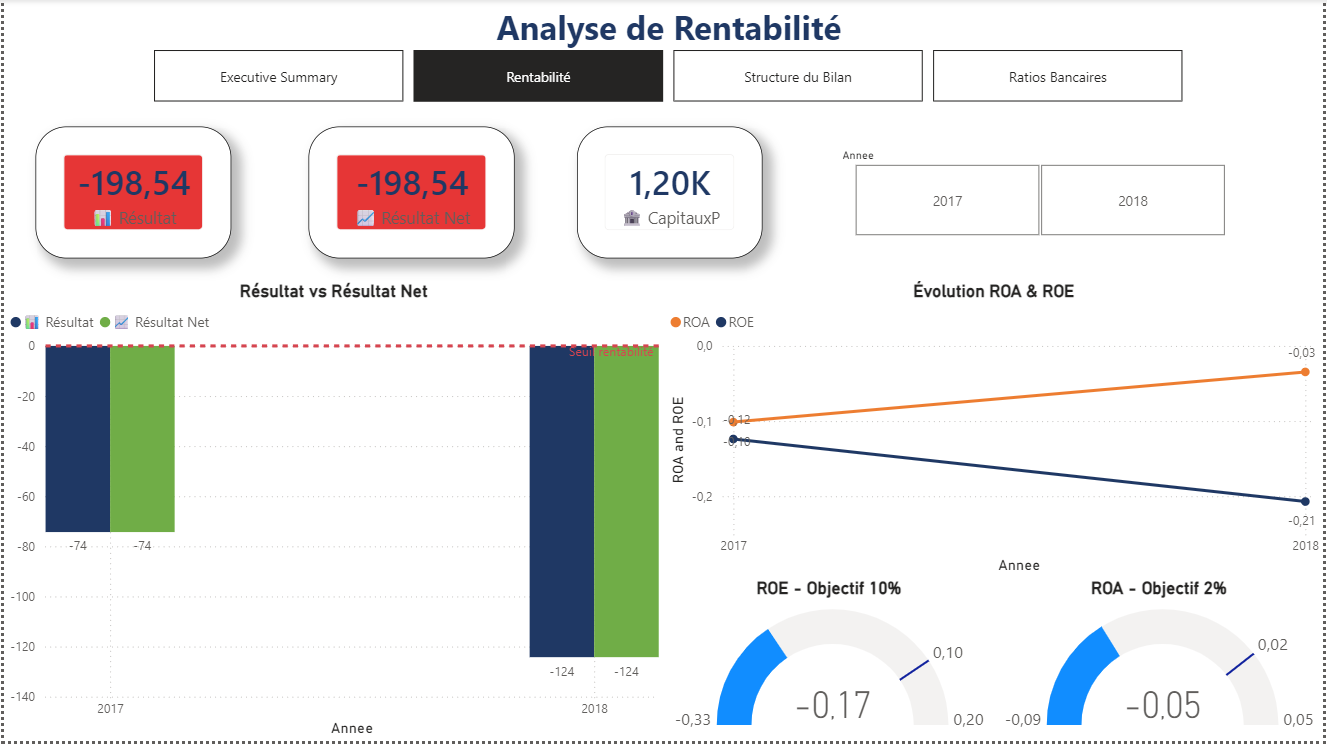

What the dashboard file says about the page in this screenshot:
{"tool":"powerbi","page":{"name":"Rentabilité","canvas":[1280,720],"ordinal":1},"visuals":[{"type":"textbox","box":[10,0,1270,76],"z":0},{"type":"cardVisual","fields":{"Data":["Indicateurs.Resultat"]},"box":[30,124,190,128],"z":1000},{"type":"cardVisual","fields":{"Data":["Indicateurs.📈 Résultat Net"]},"box":[296,124,200,128],"z":2000},{"type":"cardVisual","fields":{"Data":["Indicateurs.CapitauxP"]},"box":[556,124,180,128],"z":3000},{"type":"slicer","fields":{"Values":["Dim_date.Annee"]},"box":[800,140,408,96],"z":4000},{"type":"clusteredColumnChart","title":"Résultat  vs Résultat Net","fields":{"Category":["Dim_date.Annee"],"Y":["Indicateurs.📊 Résultat","Indicateurs.📈 Résultat Net"]},"box":[0,274,640,446],"z":5000},{"type":"lineChart","title":"Évolution ROA & ROE","fields":{"Category":["Dim_date.Annee"],"Y":["Indicateurs.ROA","Indicateurs.ROE"]},"box":[640,274,640,288],"z":6000},{"type":"gauge","title":"ROE - Objectif 10%","fields":{"MaxValue":["Bilan.ROE_Max"],"TargetValue":["Bilan.ROE_Target"],"Y":["Indicateurs.ROE"]},"box":[640,562,320,158],"z":7000},{"type":"gauge","title":"ROA - Objectif 2%","fields":{"MaxValue":["Bilan.ROA_Max"],"TargetValue":["Bilan.ROA_Target"],"Y":["Indicateurs.ROA"]},"box":[960,562,320,158],"z":8000},{"type":"pageNavigator","box":[146,50,1000,50],"z":9000}]}

Visuals, with their boxes in screenshot pixels (x1, y1, x2, y2), scaled from the page's 1280x720 canvas onto the 1327x748 screenshot:
textbox: (left=10, top=0, right=1326, bottom=79)
cardVisual - Indicateurs.Resultat: (left=31, top=129, right=228, bottom=262)
cardVisual - Indicateurs.📈 Résultat Net: (left=307, top=129, right=514, bottom=262)
cardVisual - Indicateurs.CapitauxP: (left=576, top=129, right=763, bottom=262)
slicer - Dim_date.Annee: (left=829, top=145, right=1252, bottom=245)
"Résultat  vs Résultat Net" clusteredColumnChart: (left=0, top=285, right=664, bottom=747)
"Évolution ROA & ROE" lineChart: (left=664, top=285, right=1326, bottom=584)
"ROE - Objectif 10%" gauge: (left=664, top=584, right=995, bottom=747)
"ROA - Objectif 2%" gauge: (left=995, top=584, right=1326, bottom=747)
pageNavigator: (left=151, top=52, right=1188, bottom=104)
